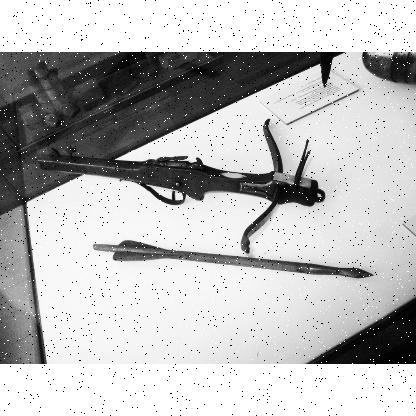gun: (35, 118, 323, 250)
